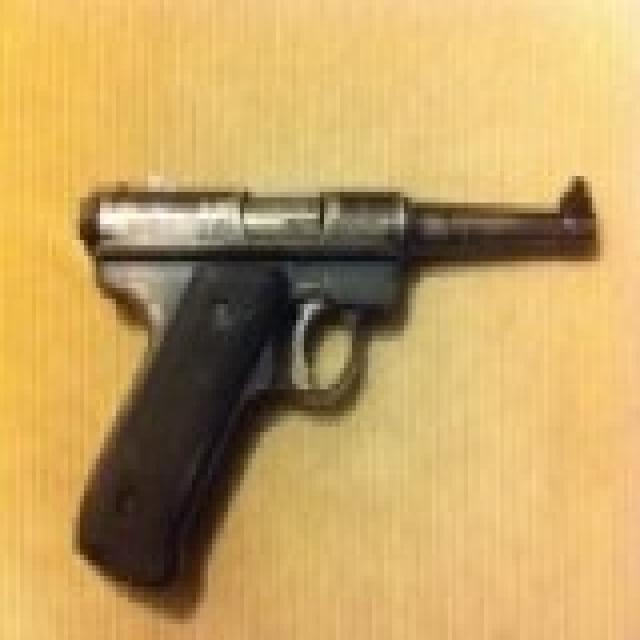gun: (60, 171, 612, 592)
